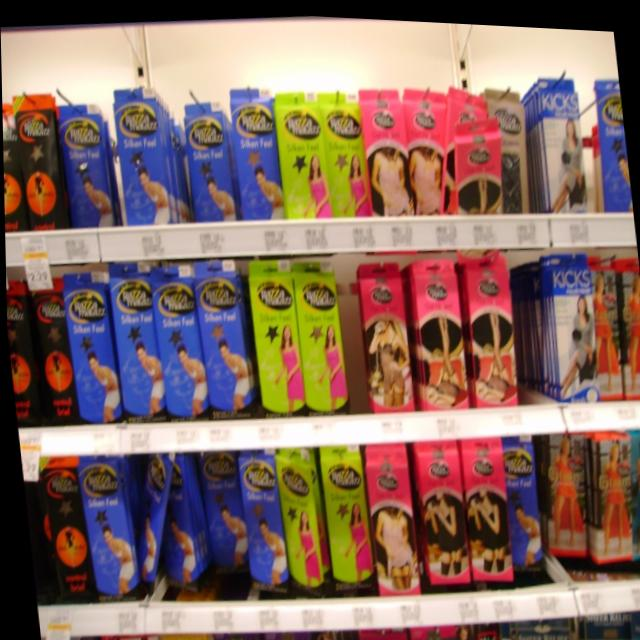q67: (356, 424, 422, 600), (359, 74, 416, 232), (403, 70, 453, 212)
